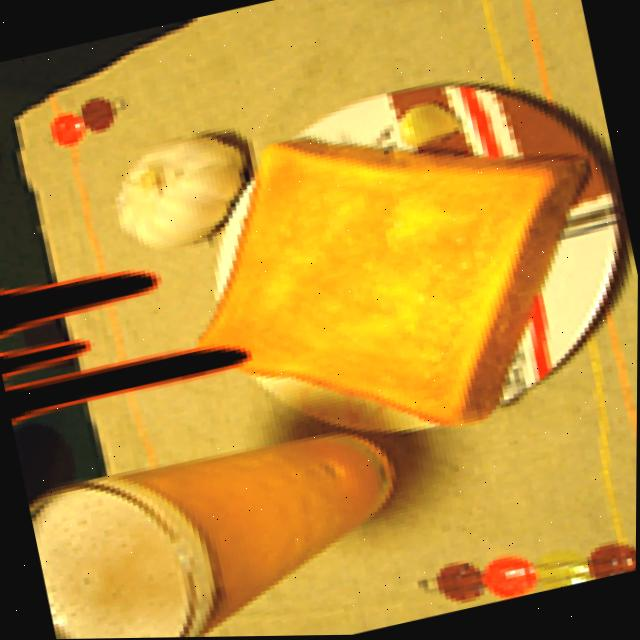面包点心: (127, 57, 600, 483)
